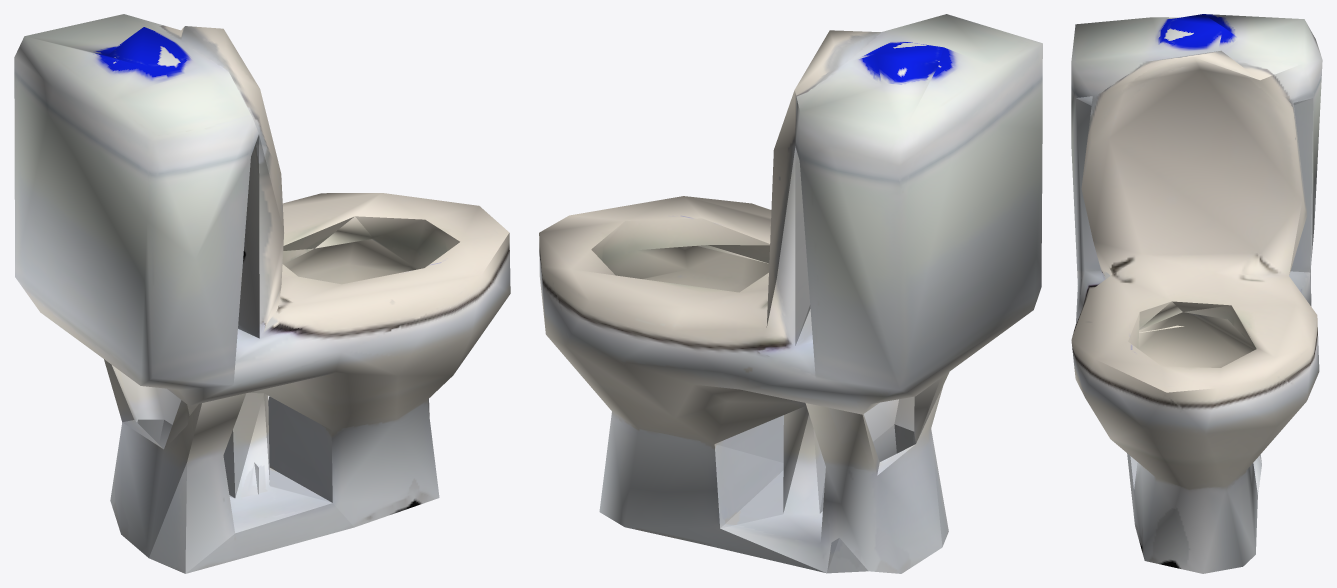
Rendered from school-toilet.glb.
The picture shows the model from 3 angles, left to right: view 1: azimuth 30°, elevation 25°; view 2: azimuth 150°, elevation 25°; view 3: azimuth 270°, elevation 25°; orthographic projection. The views are drawn at different scales.
Parts seen in each view (by area): view 1: geometry_0.001; view 2: geometry_0.001; view 3: geometry_0.001.
Part boxes in pixels (x1,y1,x2,y2): geometry_0.001: [14, 14, 510, 573]; geometry_0.001: [539, 14, 1042, 573]; geometry_0.001: [1071, 14, 1322, 573].
Size of the model in its own units: 0.8788 by 0.9943 by 0.5235.
Materials: 1 (1 with a texture image).
